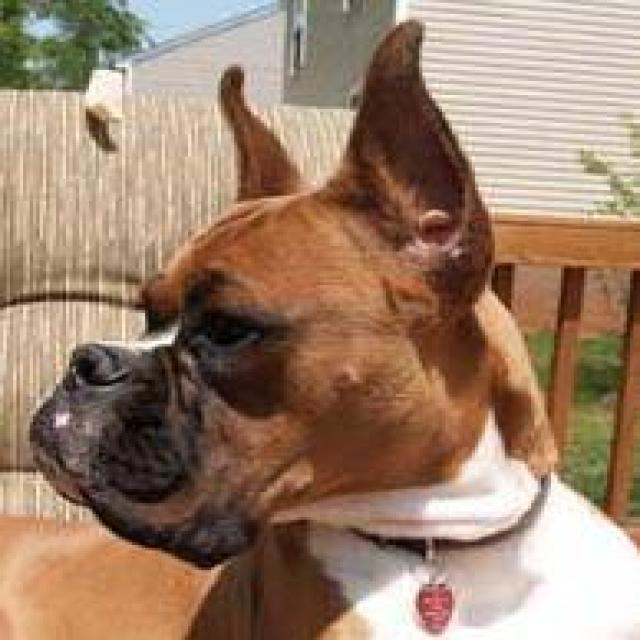Dog: (29, 7, 519, 585)
